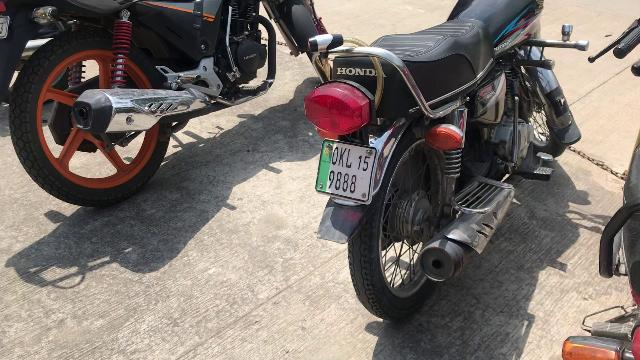plate: (312, 136, 378, 200)
